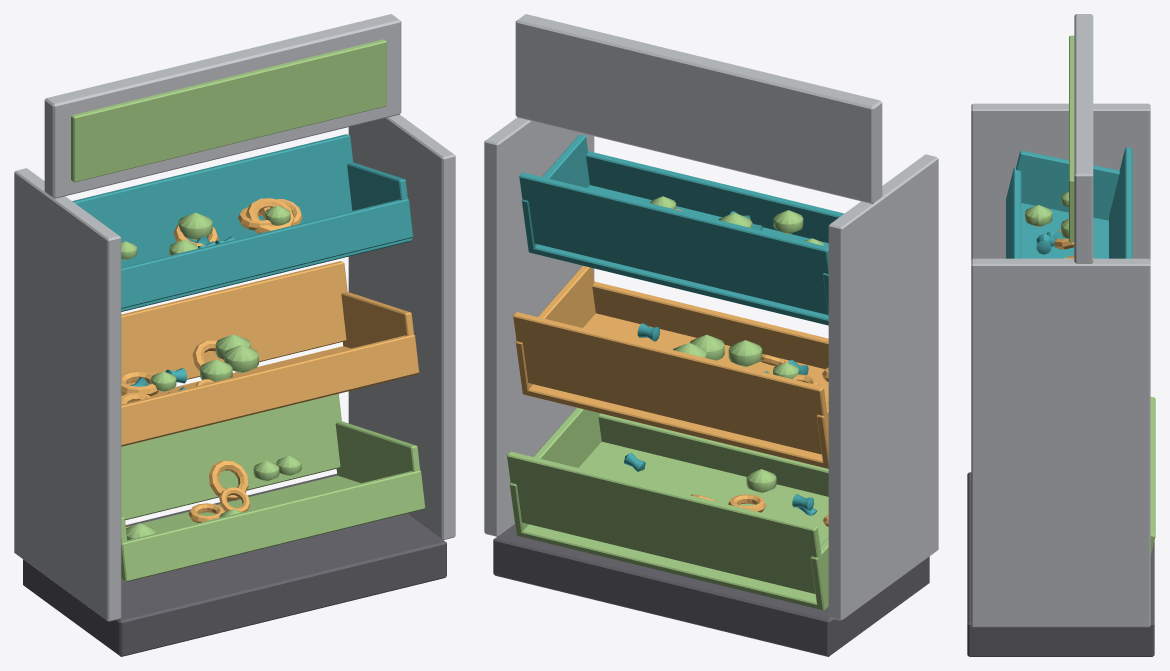
The model's file is pet-shop-and-grooming-salon-toy-bin-display-25843f02__34575.glb.
The picture shows the model from 3 angles, left to right: view 1: azimuth 30°, elevation 25°; view 2: azimuth 150°, elevation 25°; view 3: azimuth 270°, elevation 25°; orthographic projection. The views are drawn at different scales.
Parts seen in each view (by area): view 1: toy-bin-display; view 2: toy-bin-display; view 3: toy-bin-display.
Boxes of the visible parts, box(x1,y1,x2,y2) form: toy-bin-display: box(14, 14, 455, 656); toy-bin-display: box(484, 14, 938, 656); toy-bin-display: box(967, 14, 1155, 656).
Bounding box in the file's own units: 1 × 1.41 × 0.4928.
